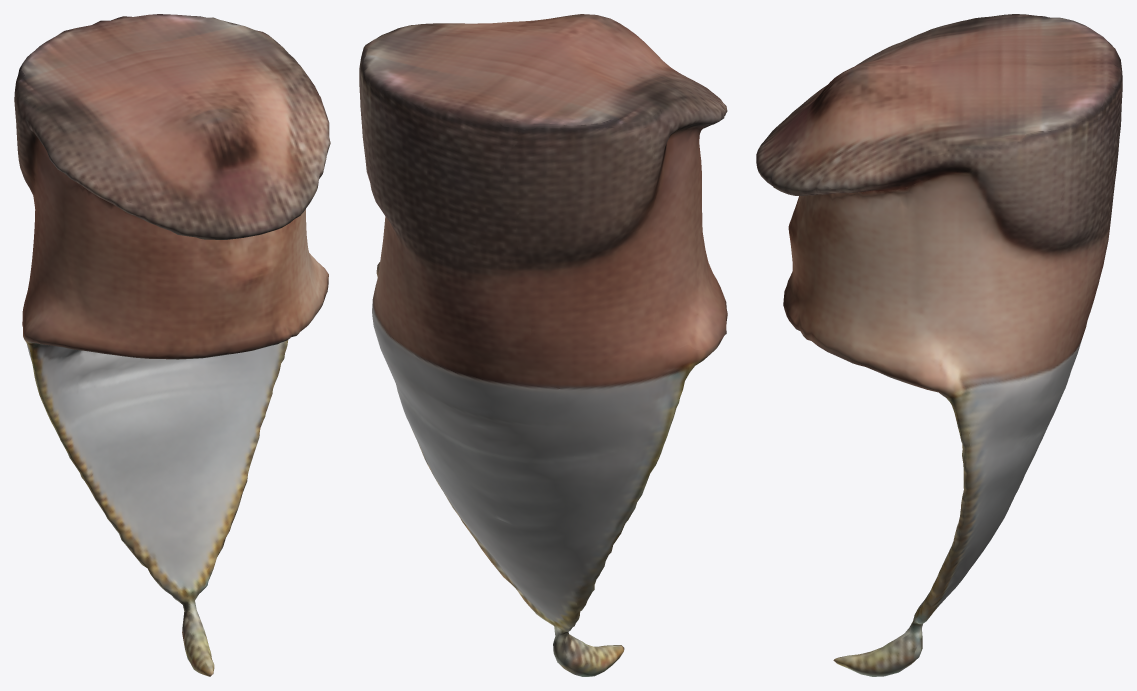
File: cadenax2.glb
3 renders of one model, left to right at view 1: azimuth 30°, elevation 25°; view 2: azimuth 150°, elevation 25°; view 3: azimuth 270°, elevation 25°, orthographic. The views are drawn at different scales.
Parts seen in each view (by area): view 1: mesh; view 2: mesh; view 3: mesh.
Part boxes in pixels (bbox=[...]): mesh: bbox=[14, 14, 330, 676]; mesh: bbox=[359, 14, 727, 676]; mesh: bbox=[756, 14, 1122, 676].
Bounding box in the file's own units: 0.9594 × 1.78 × 0.957.
1 material, 1 textured.
